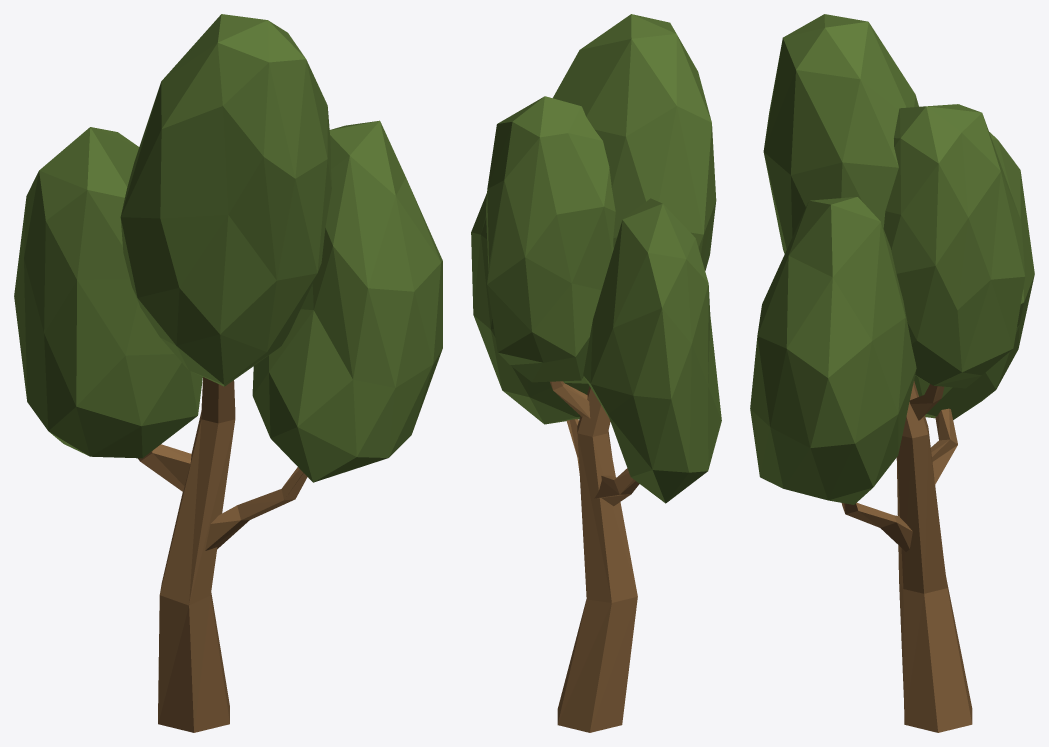
The model's file is Tree_3_2.FBX.
3 renders of one model, left to right at view 1: azimuth 30°, elevation 25°; view 2: azimuth 150°, elevation 25°; view 3: azimuth 270°, elevation 25°, orthographic. The views are drawn at different scales.
Parts seen in each view (by area): view 1: Tree_3_2; view 2: Tree_3_2; view 3: Tree_3_2.
Boxes of the visible parts, x1,y1,x2,y2 form: Tree_3_2: [14, 14, 442, 732]; Tree_3_2: [471, 14, 721, 732]; Tree_3_2: [750, 14, 1034, 732].
Size of the model in its own units: 97.55 by 206 by 76.6.
Materials: 1 (1 with a texture image).
